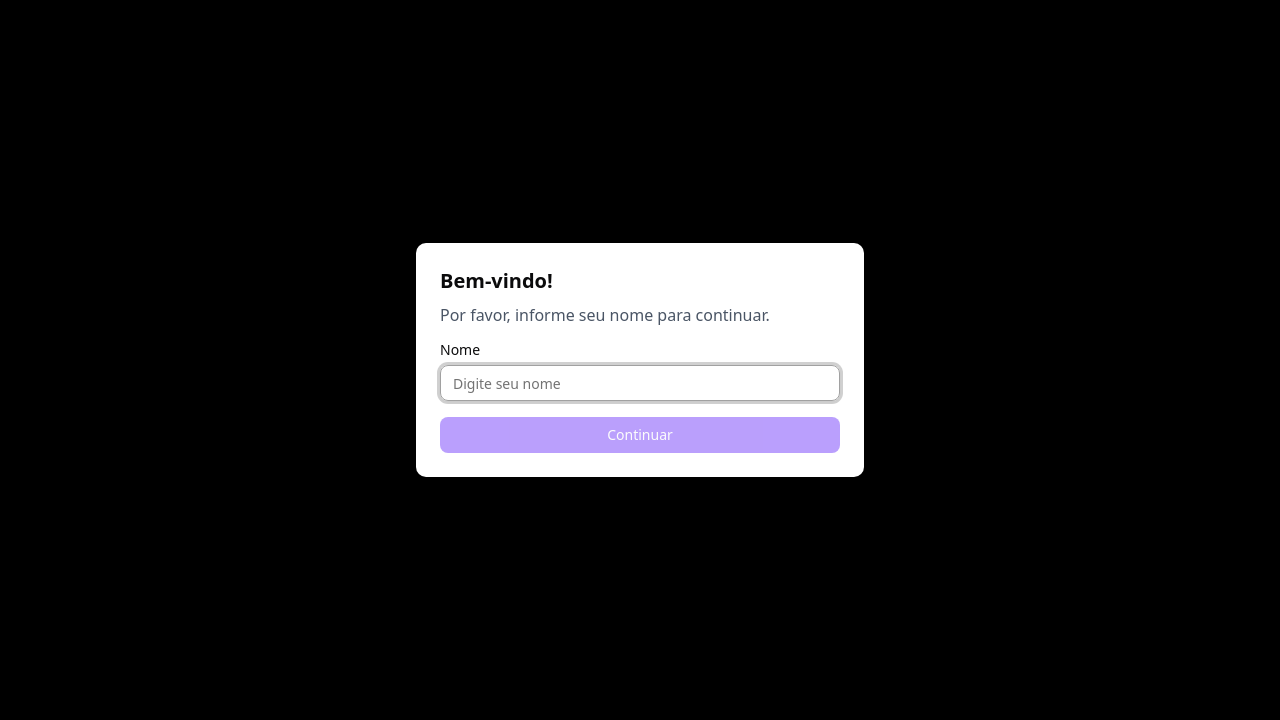
Test: Home Page › should show modal when no user name is saved
Type "João Silva" into the field with placeholder "Digite seu nome".
click(640, 383); type("João Silva")  # box [440,365,840,401]
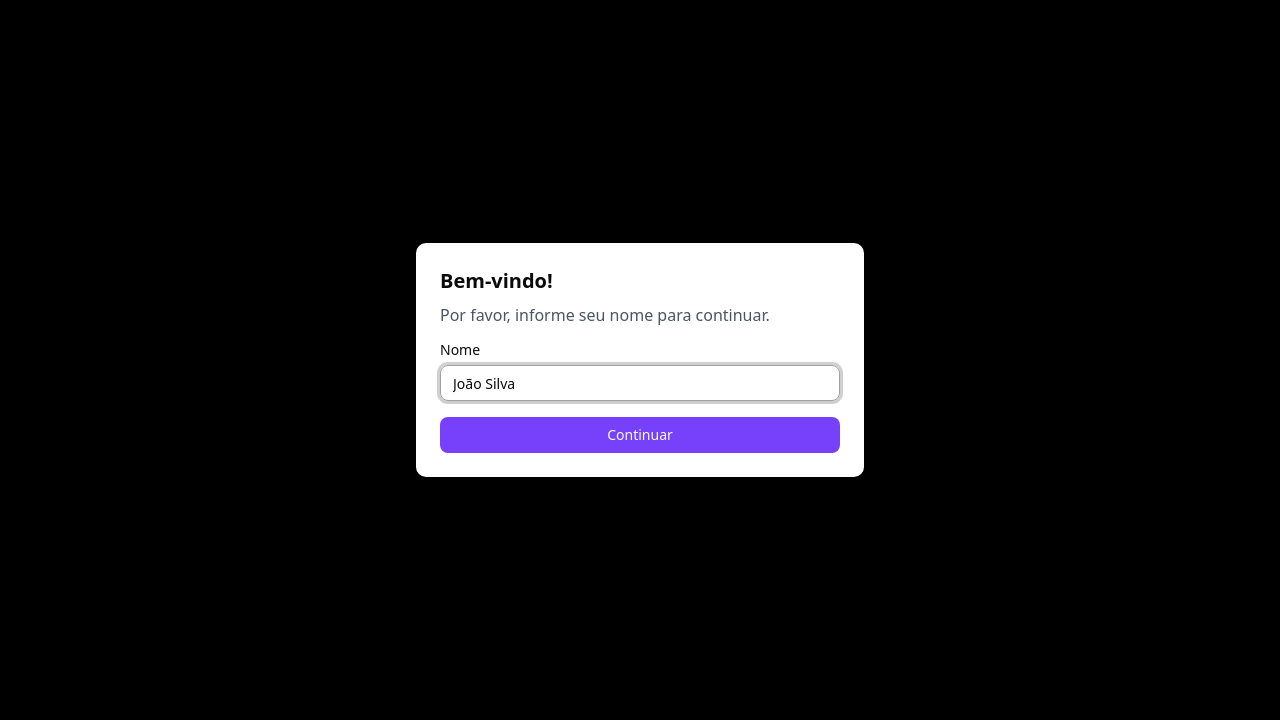
Click the submit button.
click(640, 435)  # box [440,417,840,453]
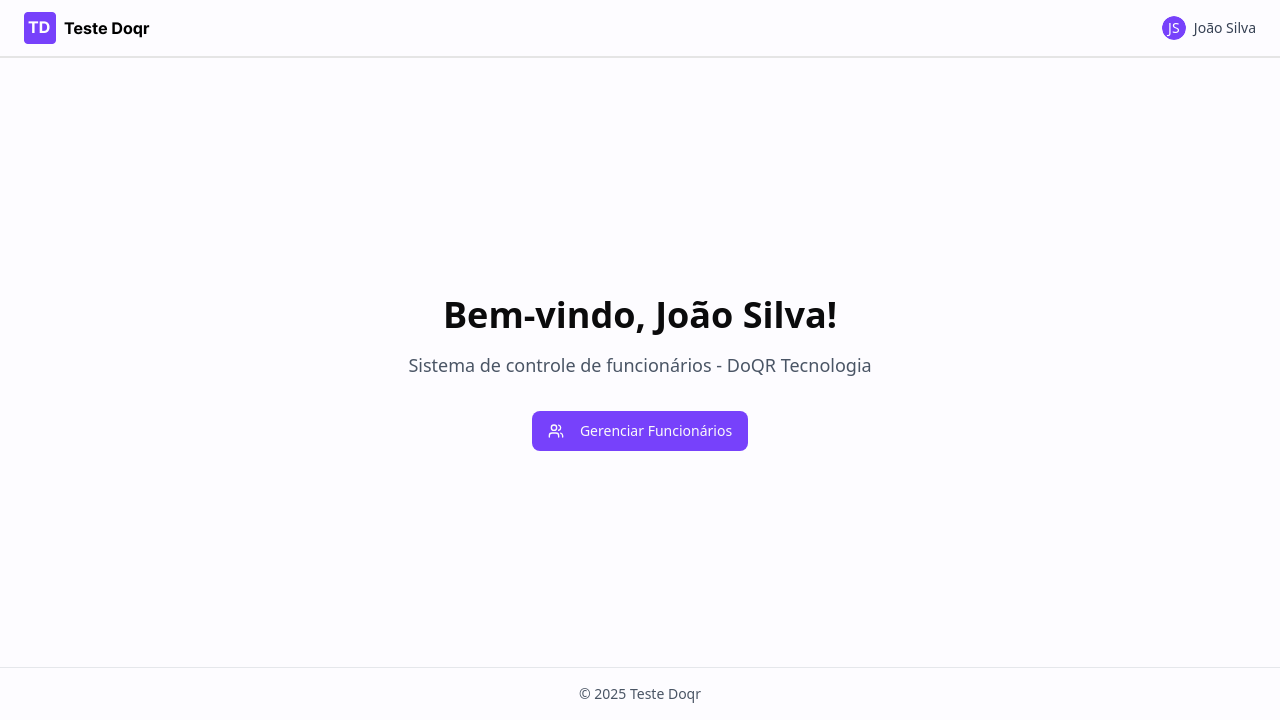
expect the heading "Bem-vindo, João Silva!" is shown: met, box [443,290,837,338]
expect the text "João Silva" is shown: met, box [1194,18,1256,38]
